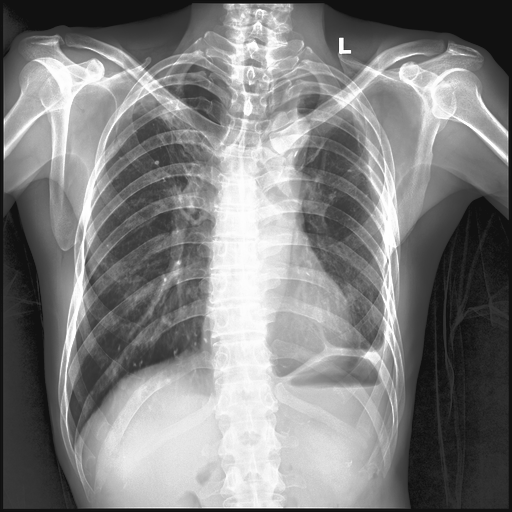Calcification: (282, 67, 397, 331), (315, 75, 372, 131), (372, 329, 397, 362), (312, 326, 337, 349)
Consolidation: (257, 109, 311, 165)
Other lesion: (153, 159, 162, 166)
Pleural effusion: (366, 327, 395, 375)
Pneumothorax: (117, 91, 209, 188), (348, 128, 368, 201)
Pulmonary fibrosis: (153, 159, 162, 166)
